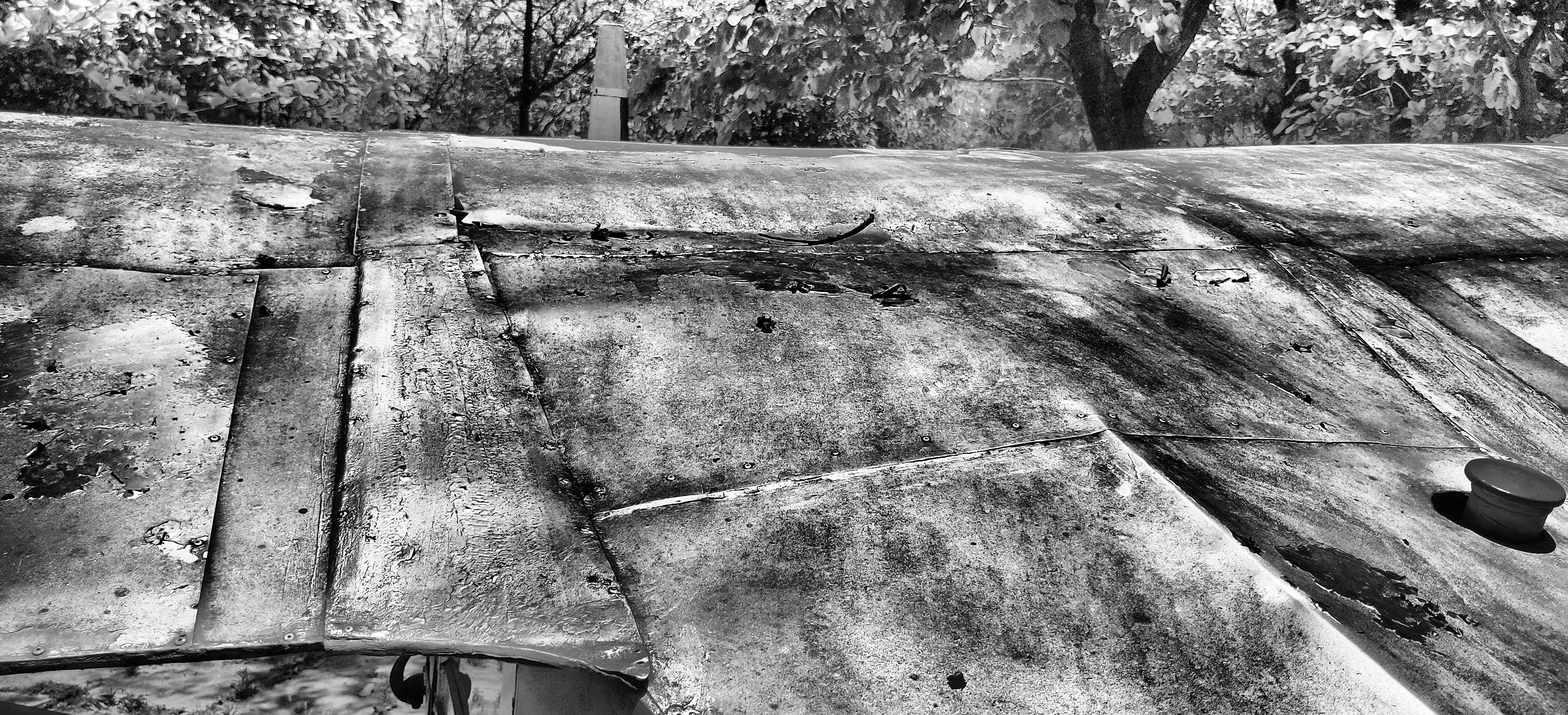crack: (590, 664, 650, 690), (324, 633, 377, 642)
paint-peel-off: (1275, 539, 1478, 643), (22, 361, 166, 499), (0, 623, 131, 659), (1065, 258, 1172, 291), (452, 194, 527, 234), (1350, 299, 1415, 341), (241, 179, 321, 211), (844, 282, 922, 311), (1259, 372, 1317, 404), (144, 518, 205, 547), (619, 268, 672, 299), (756, 276, 842, 294), (1229, 528, 1265, 559), (1192, 267, 1250, 285), (947, 670, 967, 692), (1264, 342, 1292, 356), (1322, 423, 1340, 434)
scratch: (1128, 452, 1144, 480)
